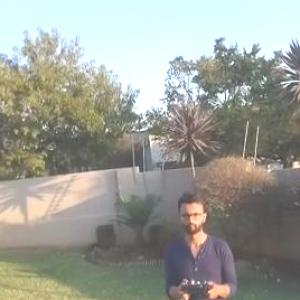follow: (161, 194, 241, 299)
